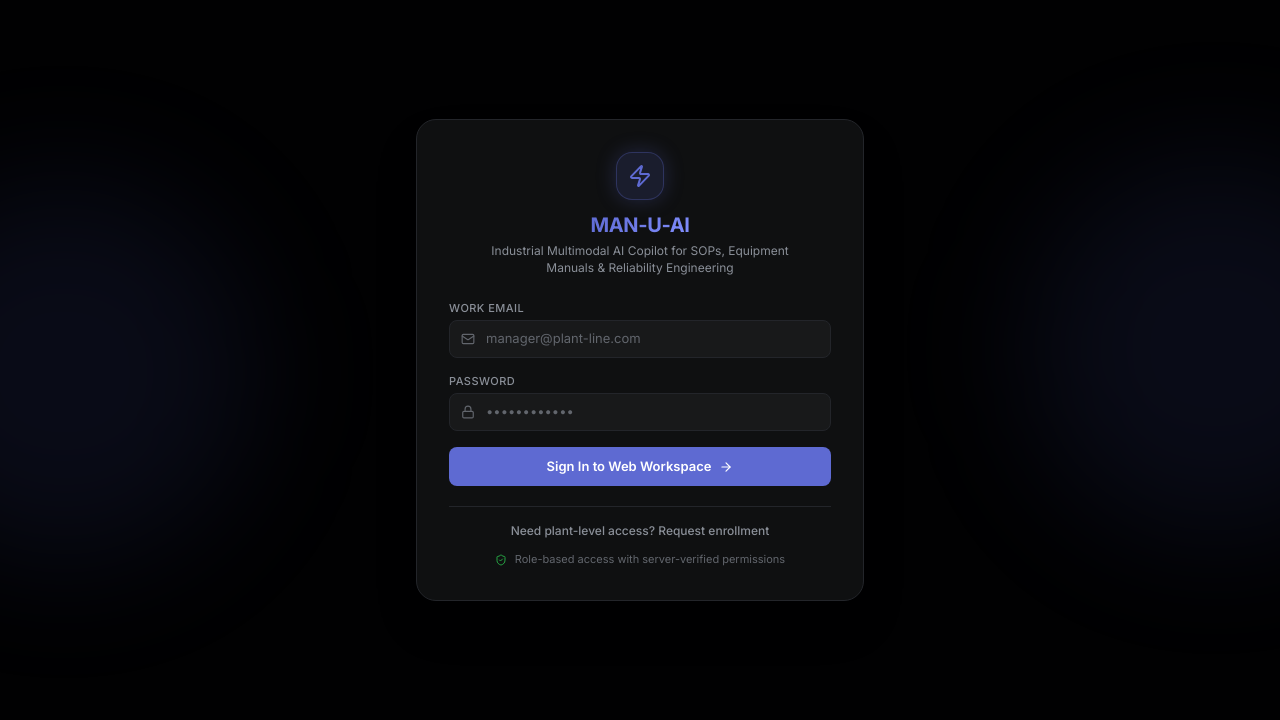
Test: Stage 5.4 — Web LoginPage Authentication Timeout & 503 Handling › displays server error message when backend returns 503 database unavailable
This screenshot has width=1280, height=720.
In the field with placeholder "manager@plant-line.com": [640, 339] box x1=449 y1=320 x2=831 y2=358, type "manager@plant.io"
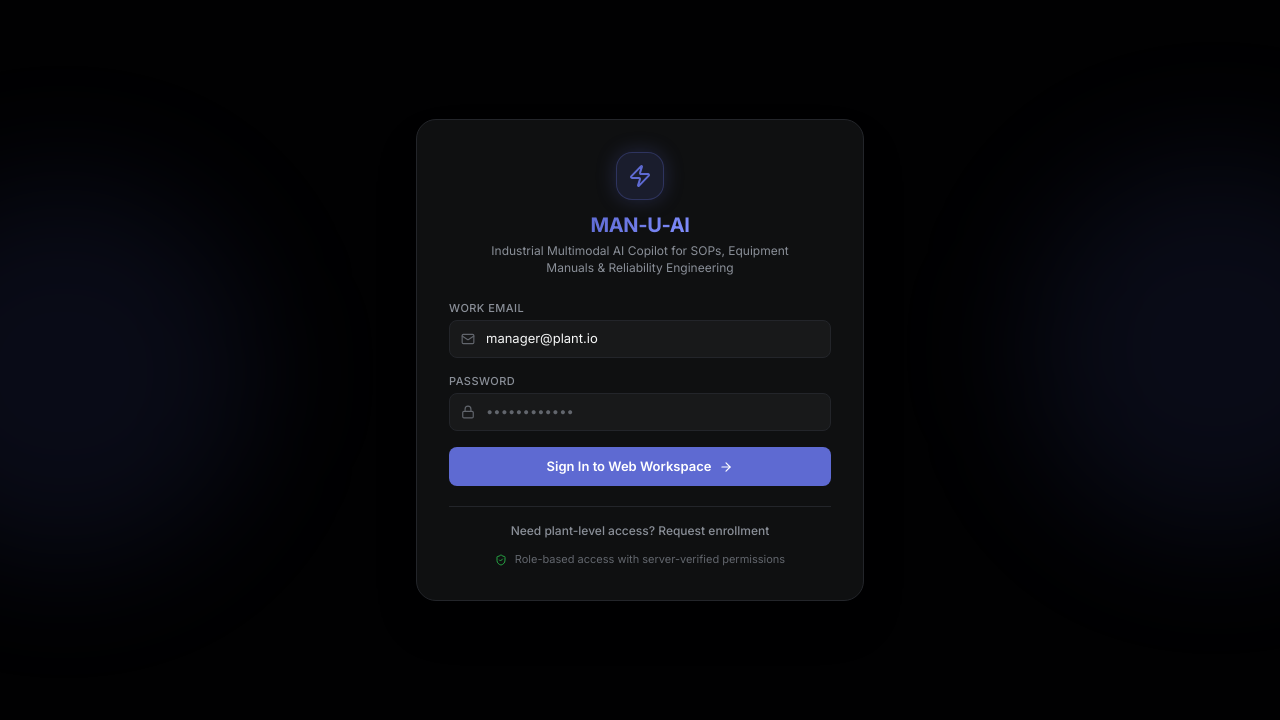
In the password field with placeholder "••••••••••••": [640, 412] box x1=449 y1=393 x2=831 y2=431, type "TestPassword123!"
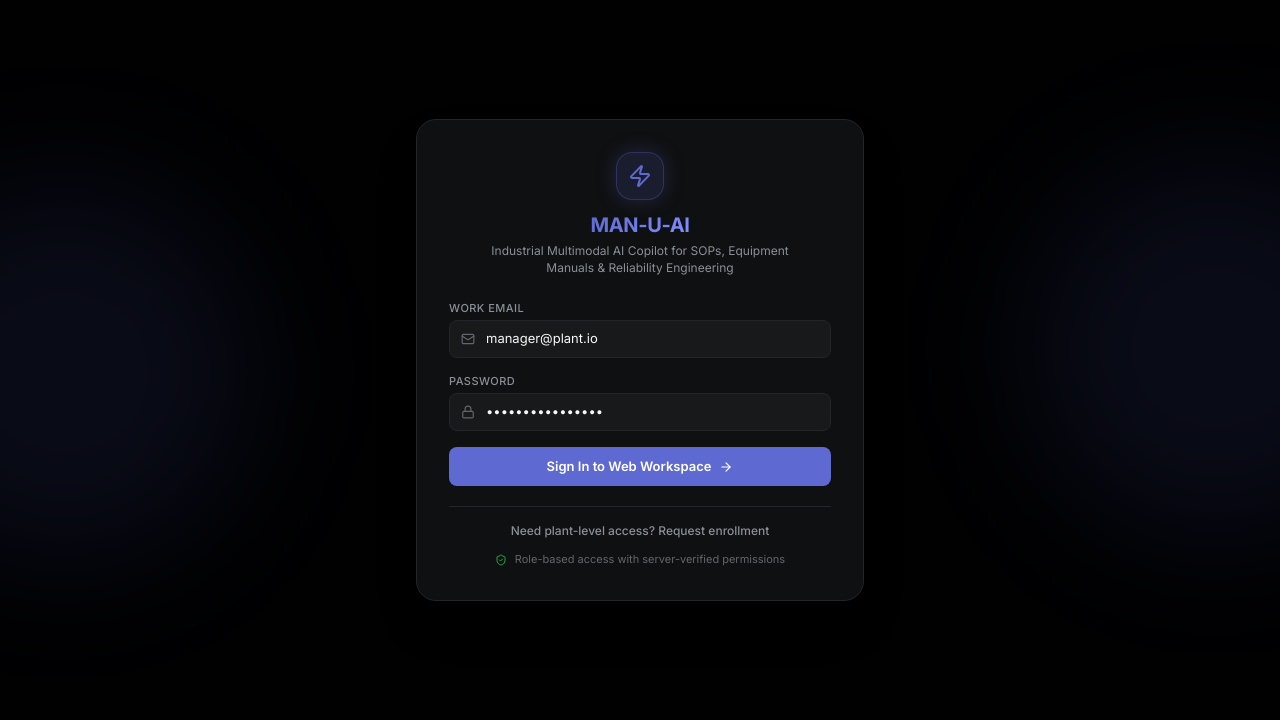
Click the button "Sign In to Web Workspace": [640, 467] box x1=449 y1=447 x2=831 y2=486
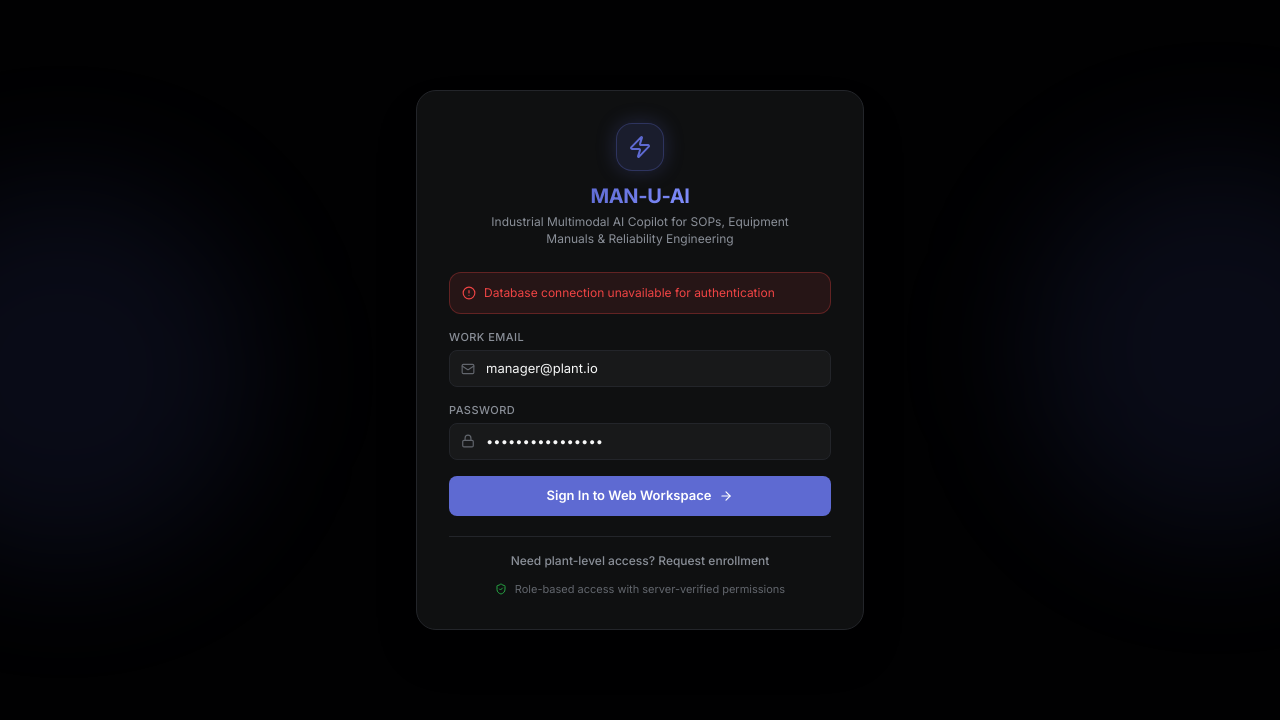
expect the text "Database connection unavailable for authentication" is shown: met, box x1=484 y1=285 x2=775 y2=302
